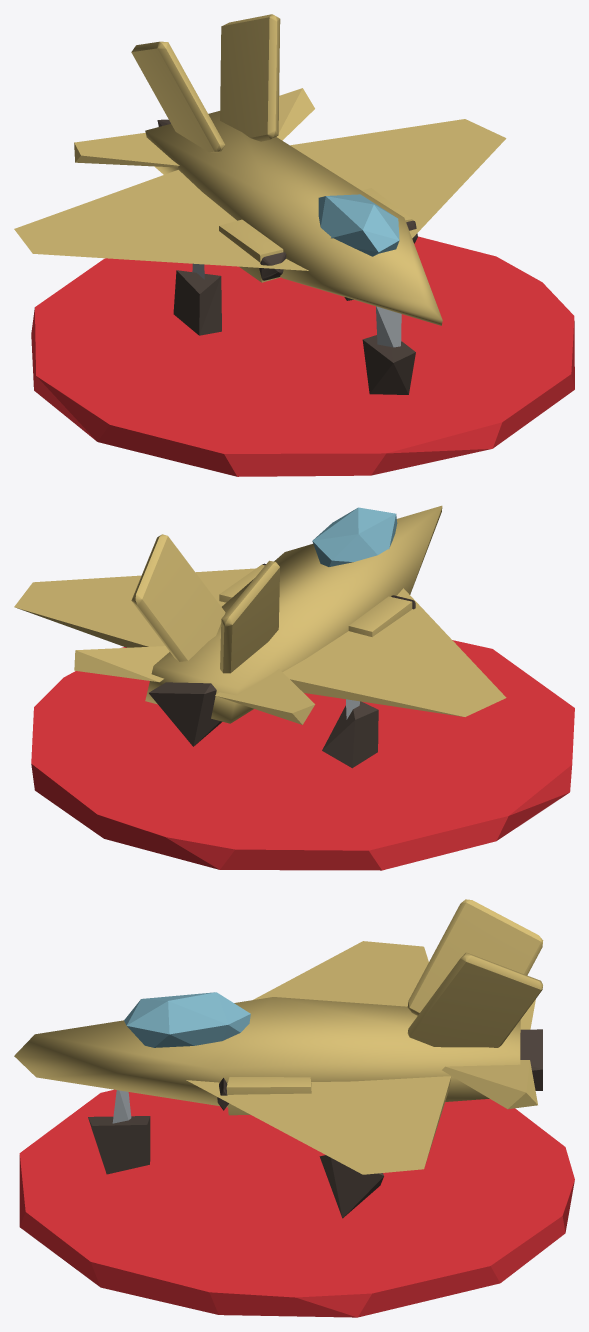
The model's file is israel_air_force_lod1.glb.
The picture shows the model from 3 angles, top to bottom: view 1: azimuth 30°, elevation 25°; view 2: azimuth 150°, elevation 25°; view 3: azimuth 270°, elevation 25°; orthographic projection.
Visible parts, largest first — view 1: base_pedestal, body_hull; view 2: base_pedestal, body_hull; view 3: base_pedestal, body_hull.
Part boxes in pixels (<box>): base_pedestal: <box>31,236,574,476</box>; body_hull: <box>14,14,506,394</box>; base_pedestal: <box>31,640,574,870</box>; body_hull: <box>14,505,506,768</box>; base_pedestal: <box>19,1089,574,1317</box>; body_hull: <box>14,899,543,1218</box>.
Size of the model in its own units: 0.7761 by 0.4214 by 0.783.
